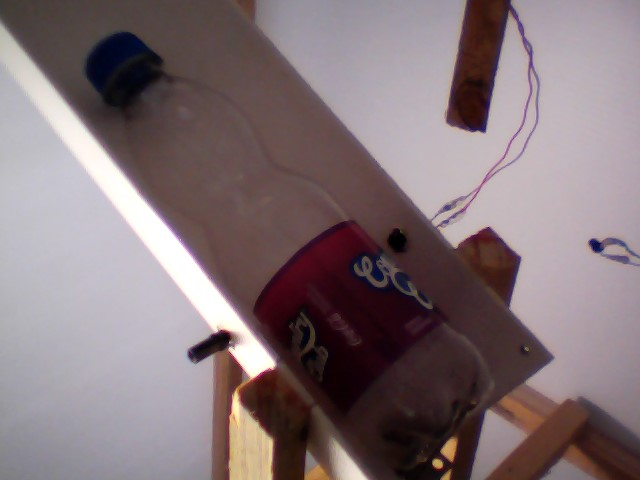plastico: (76, 26, 499, 477)
